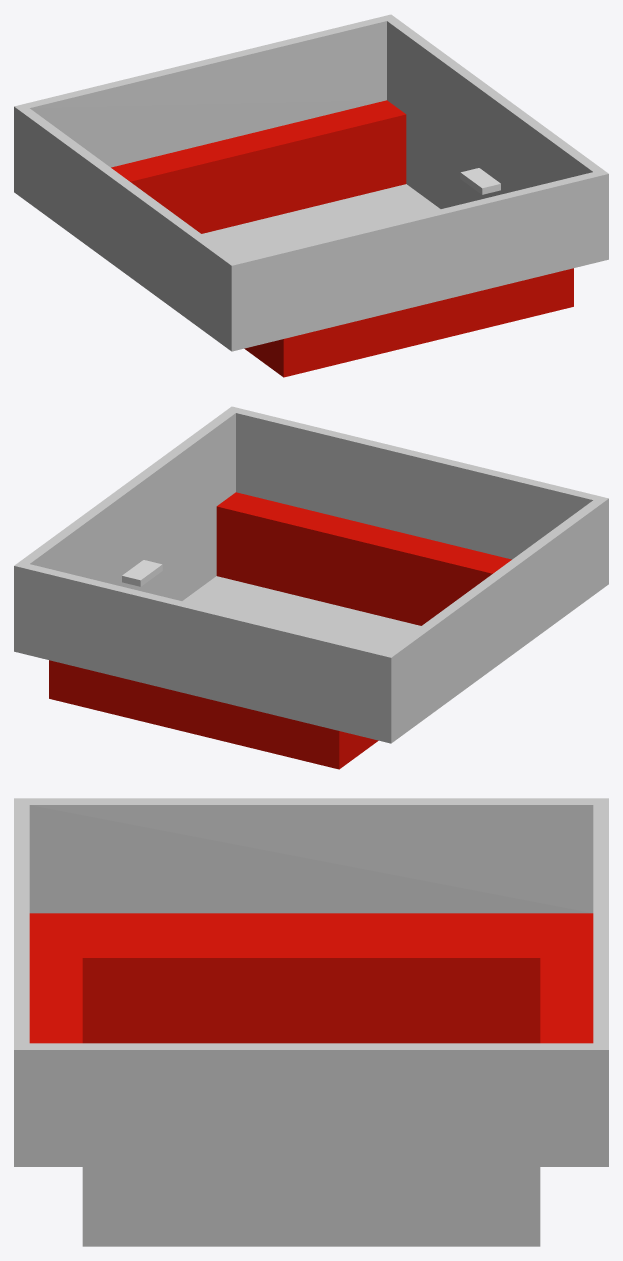
The model's file is LavaPit.fbx.
3 renders of one model, top to bottom at view 1: azimuth 30°, elevation 25°; view 2: azimuth 150°, elevation 25°; view 3: azimuth 270°, elevation 25°, orthographic. The views are drawn at different scales.
Visible parts, largest first — view 1: Cube.001, Cube; view 2: Cube.001, Cube; view 3: Cube.001.
Boxes of the visible parts, left/top/right/bottom form: Cube.001: left=14, top=14, right=608, bottom=377; Cube: left=460, top=168, right=500, bottom=194; Cube.001: left=14, top=406, right=608, bottom=769; Cube: left=122, top=560, right=162, bottom=586; Cube.001: left=14, top=798, right=608, bottom=1246.
Size of the model in its own units: 12000 by 4526 by 12000.
